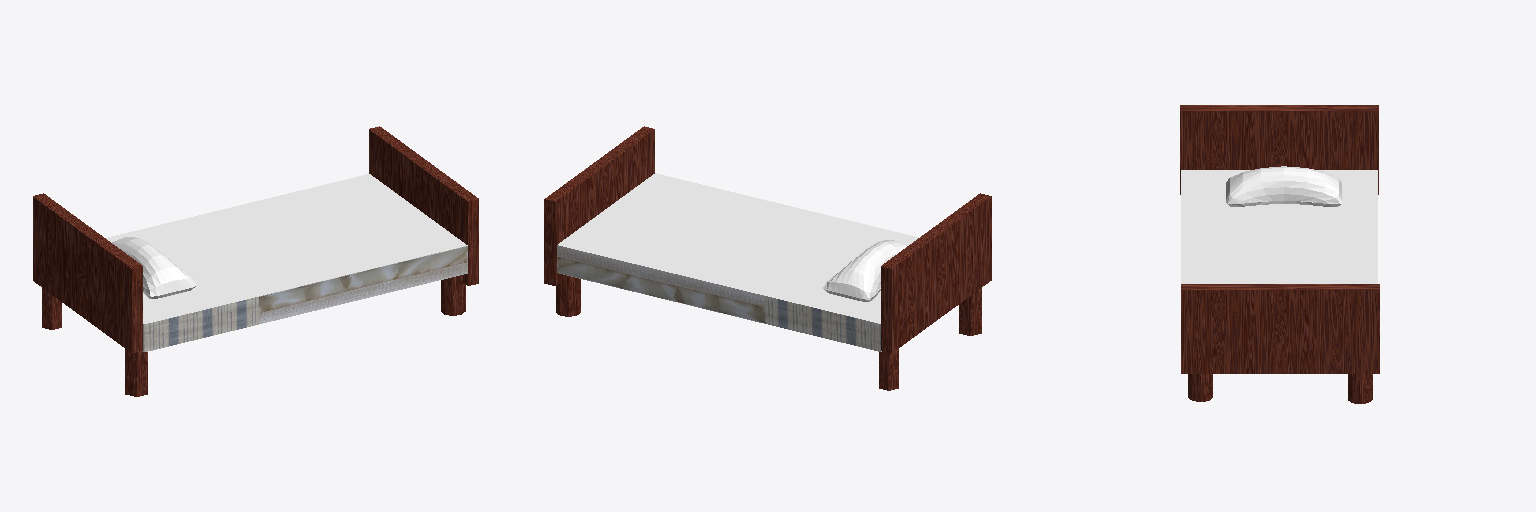
3 renders of one model, left to right at view 1: azimuth 30°, elevation 25°; view 2: azimuth 150°, elevation 25°; view 3: azimuth 270°, elevation 25°, orthographic.
Parts seen in each view (by area): view 1: prim5, prim6, prim7, prim2, prim1, prim4, prim0; view 2: prim5, prim6, prim7, prim2, prim3, prim1, prim0; view 3: prim5, prim7, prim6, prim2, prim3, prim4.
Boxes of the visible parts, <box> form: prim5: <box>106,174,467,351</box>; prim6: <box>33,193,142,352</box>; prim7: <box>369,126,478,285</box>; prim2: <box>112,237,196,298</box>; prim1: <box>125,349,147,396</box>; prim4: <box>441,275,465,315</box>; prim0: <box>42,288,61,329</box>; prim5: <box>557,173,918,351</box>; prim6: <box>881,193,991,352</box>; prim7: <box>544,126,654,285</box>; prim2: <box>823,240,906,301</box>; prim3: <box>556,274,580,316</box>; prim1: <box>959,288,981,335</box>; prim0: <box>879,349,898,390</box>; prim5: <box>1181,170,1377,283</box>; prim7: <box>1181,284,1379,373</box>; prim6: <box>1180,105,1378,194</box>; prim2: <box>1226,166,1341,206</box>; prim3: <box>1348,374,1372,403</box>; prim4: <box>1188,374,1212,401</box>.
Size of the model in its own units: 3.6 by 1.31 by 1.79.
Materials: 6 (4 with a texture image).